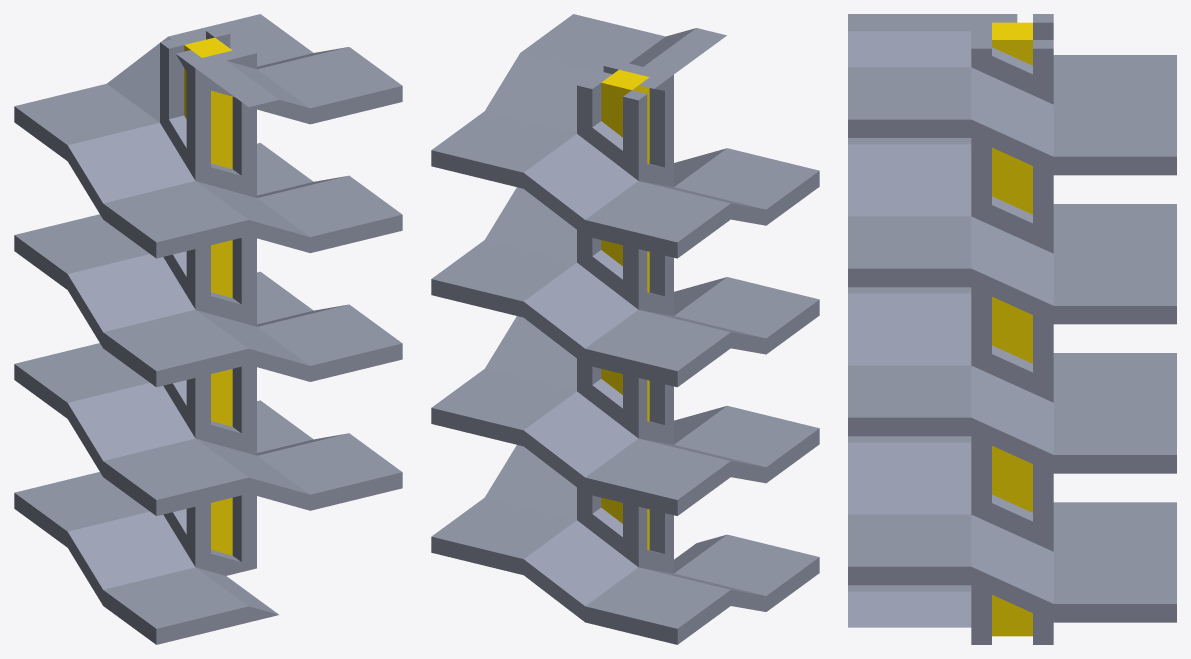
File: building_ramp-yellow_v01.gltf
The picture shows the model from 3 angles, left to right: view 1: azimuth 30°, elevation 25°; view 2: azimuth 150°, elevation 25°; view 3: azimuth 270°, elevation 25°; orthographic projection. The views are drawn at different scales.
Visible parts, largest first — view 1: ramp massing 1, core 1; view 2: ramp massing 1, core 1; view 3: ramp massing 1, core 1.
Boxes of the visible parts, <box> form: ramp massing 1: <box>14,14,402,644</box>; core 1: <box>184,37,232,555</box>; ramp massing 1: <box>431,14,819,644</box>; core 1: <box>601,69,649,549</box>; ramp massing 1: <box>848,14,1176,644</box>; core 1: <box>992,22,1032,636</box>.
Size of what is drawn, in the model's own units: 8 by 16 by 8.
